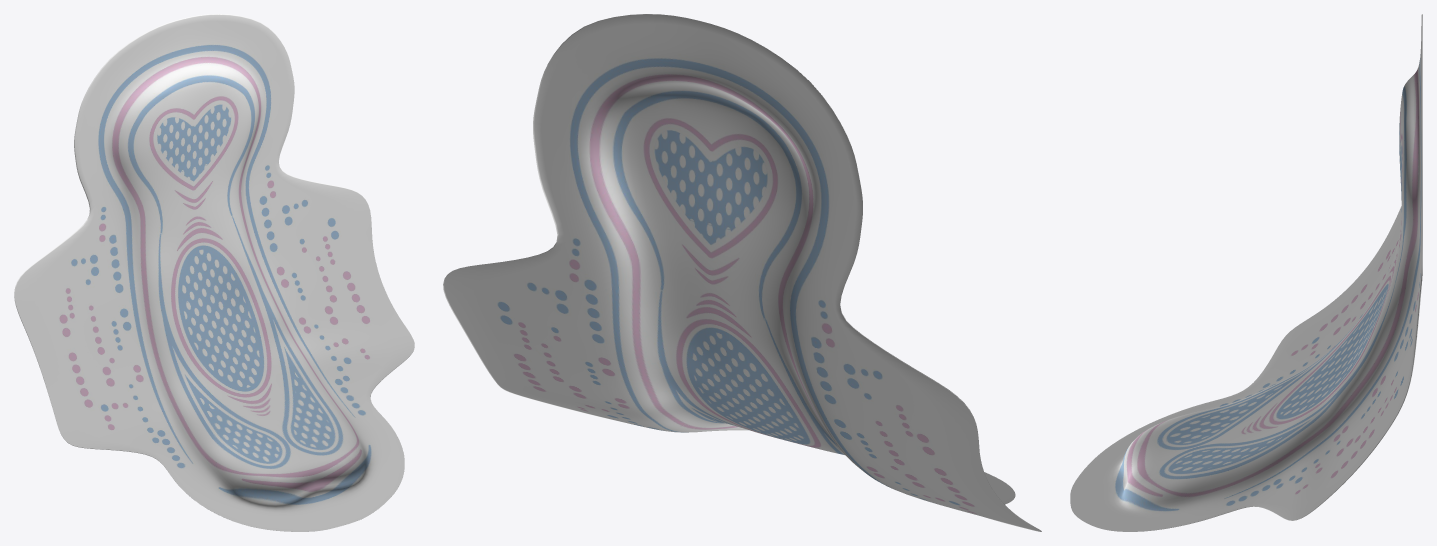
The model's file is Saba__ultra_invisible_ultra_thin_TOMA1.gltf.
The picture shows the model from 3 angles, left to right: view 1: azimuth 30°, elevation 25°; view 2: azimuth 150°, elevation 25°; view 3: azimuth 270°, elevation 25°; orthographic projection. The views are drawn at different scales.
Parts seen in each view (by area): view 1: Saba__ultra_invisible_ultra_thin_TOMA1; view 2: Saba__ultra_invisible_ultra_thin_TOMA1; view 3: Saba__ultra_invisible_ultra_thin_TOMA1.
Boxes of the visible parts, <box> form: Saba__ultra_invisible_ultra_thin_TOMA1: <box>14,14,414,531</box>; Saba__ultra_invisible_ultra_thin_TOMA1: <box>443,14,1041,531</box>; Saba__ultra_invisible_ultra_thin_TOMA1: <box>1070,14,1422,531</box>.
Size of the model in its own units: 0.2734 by 0.2921 by 0.2008.
Materials: 1 (1 with a texture image).
